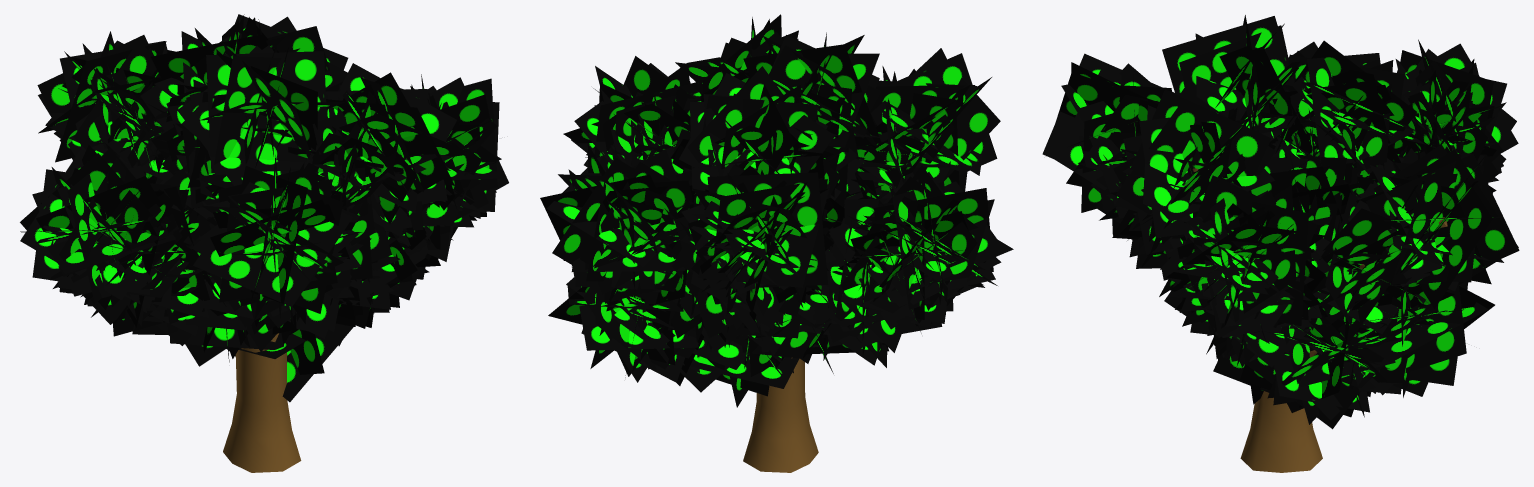
File: Tree.fbx
3 views of the same model, side by side, from view 1: azimuth 30°, elevation 25°; view 2: azimuth 150°, elevation 25°; view 3: azimuth 270°, elevation 25° (orthographic). The views are drawn at different scales.
Visible parts, largest first — view 1: Tree; view 2: Tree; view 3: Tree.
Part boxes in pixels (x1,y1,x2,y2): Tree: [20, 14, 508, 472]; Tree: [540, 14, 1013, 472]; Tree: [1042, 15, 1519, 472].
Size of the model in its own units: 2869 by 2551 by 2613.
